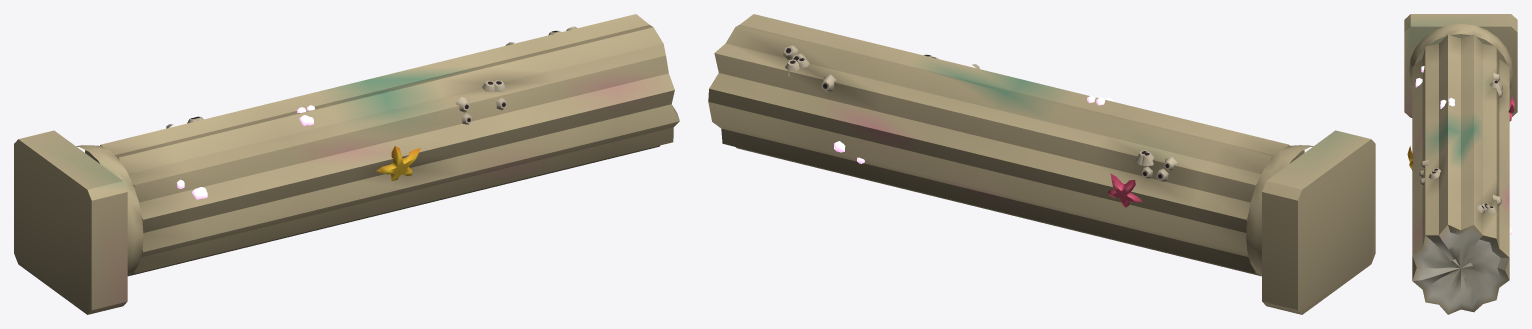
The model's file is log_underwater.glb.
The picture shows the model from 3 angles, left to right: view 1: azimuth 30°, elevation 25°; view 2: azimuth 150°, elevation 25°; view 3: azimuth 270°, elevation 25°; orthographic projection. The views are drawn at different scales.
Parts seen in each view (by area): view 1: log_underwater; view 2: log_underwater; view 3: log_underwater.
Part boxes in pixels (x1,y1,x2,y2): log_underwater: (14,14,679,314); log_underwater: (708,14,1375,314); log_underwater: (1404,14,1517,314).
Bounding box in the file's own units: 4 × 0.831 × 0.9.
